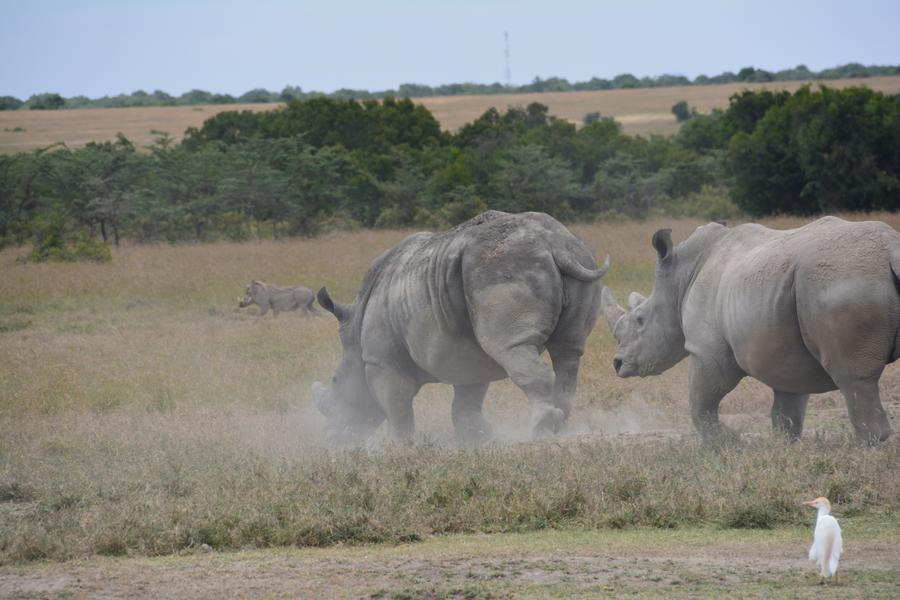rhino: (629, 218, 891, 443), (321, 210, 602, 417)
